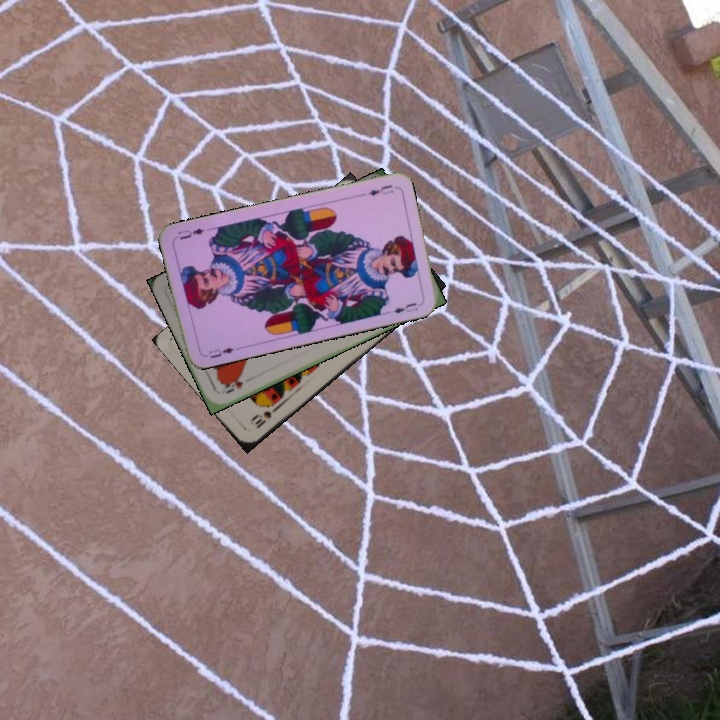EU: (205, 343, 237, 361), (364, 181, 396, 198)
HO: (220, 375, 246, 396)
S10: (247, 403, 281, 431)
